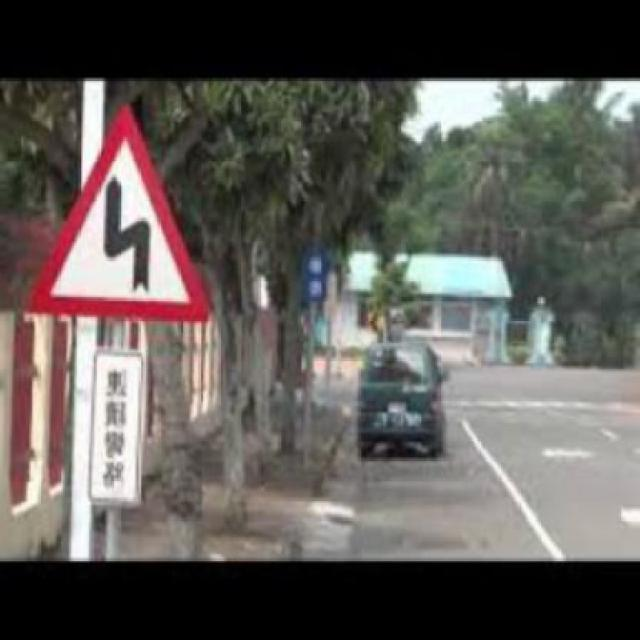warn_double_curve: (21, 93, 209, 322)
